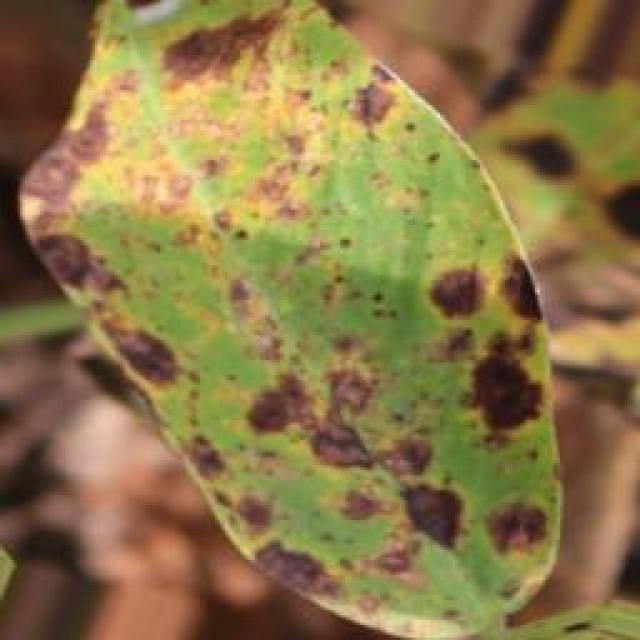Yellowish: (30, 1, 572, 626)
